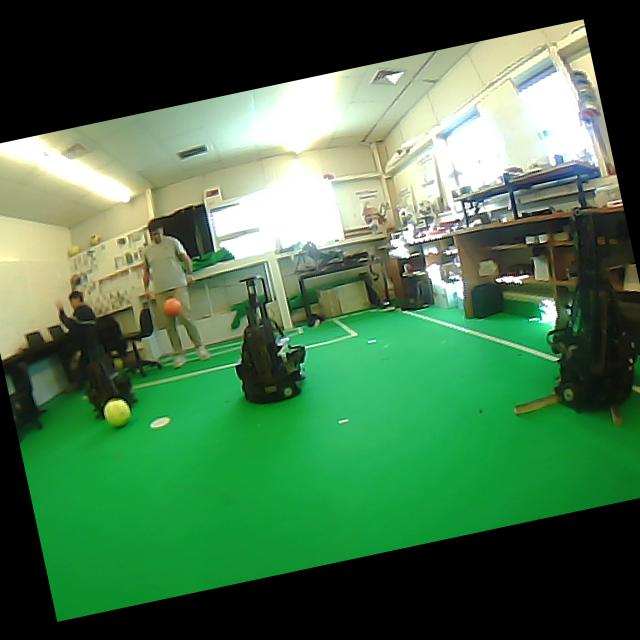ball: (103, 397, 130, 427), (163, 297, 182, 317), (67, 244, 81, 256), (89, 234, 101, 244), (113, 358, 123, 368)
goal: (267, 253, 292, 328)
robot: (550, 211, 636, 411), (235, 276, 305, 402)
